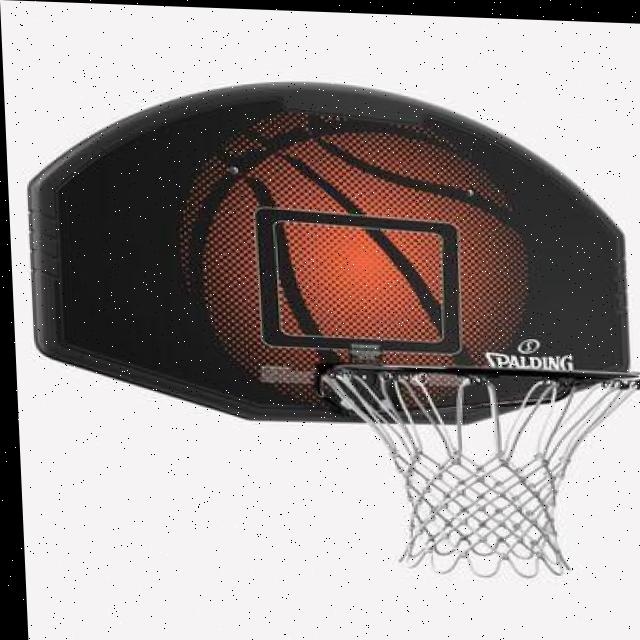hoop: (324, 362, 640, 584)
